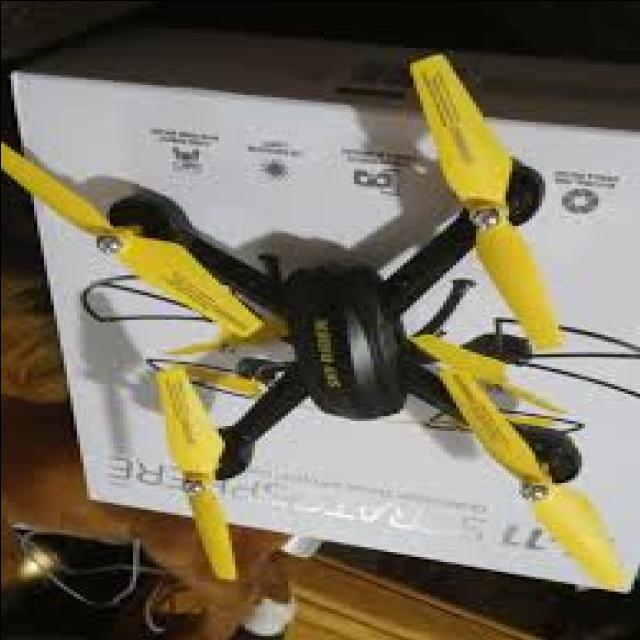drone: (0, 80, 640, 596)
